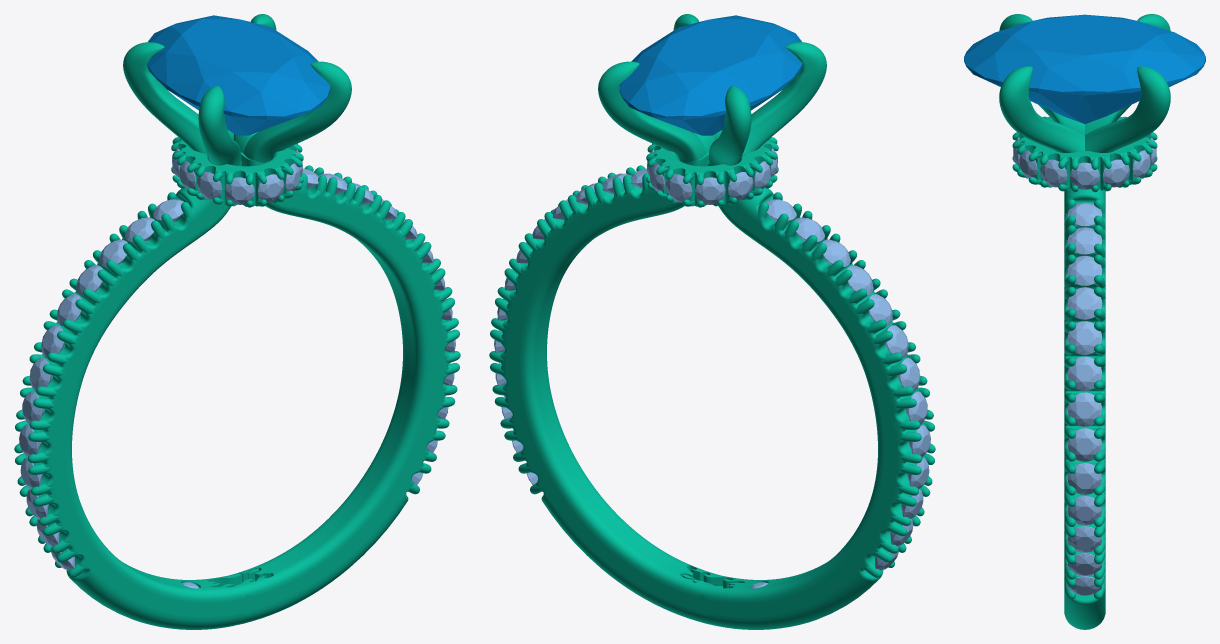
The model's file is ring3.glb.
3 renders of one model, left to right at view 1: azimuth 30°, elevation 25°; view 2: azimuth 150°, elevation 25°; view 3: azimuth 270°, elevation 25°, orthographic.
Parts seen in each view (by area): view 1: gold.3dm, Diamond_Oval, Diamond_Round; view 2: gold.3dm, Diamond_Oval, Diamond_Round; view 3: gold.3dm, Diamond_Oval, Diamond_Round (×18).
Boxes of the visible parts, x1=… form: gold.3dm: x1=14, y1=14, x2=460, y2=629; Diamond_Oval: x1=147, y1=15, x2=330, y2=135; Diamond_Round: x1=224, y1=177, x2=254, y2=204; gold.3dm: x1=489, y1=14, x2=935, y2=629; Diamond_Oval: x1=619, y1=15, x2=802, y2=135; Diamond_Round: x1=695, y1=177, x2=725, y2=204; gold.3dm: x1=999, y1=14, x2=1170, y2=629; Diamond_Oval: x1=964, y1=14, x2=1205, y2=123; Diamond_Round (×18): x1=1019, y1=150, x2=1150, y2=595.
Size of the model in its own units: 2.36 by 3.01 by 1.16.
